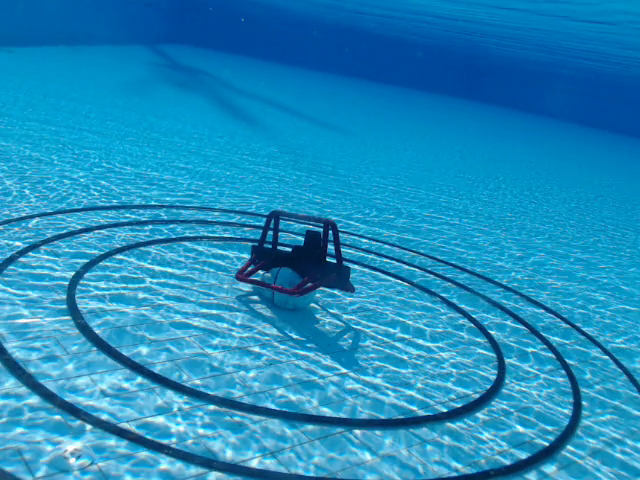submarine: (233, 208, 357, 300)
